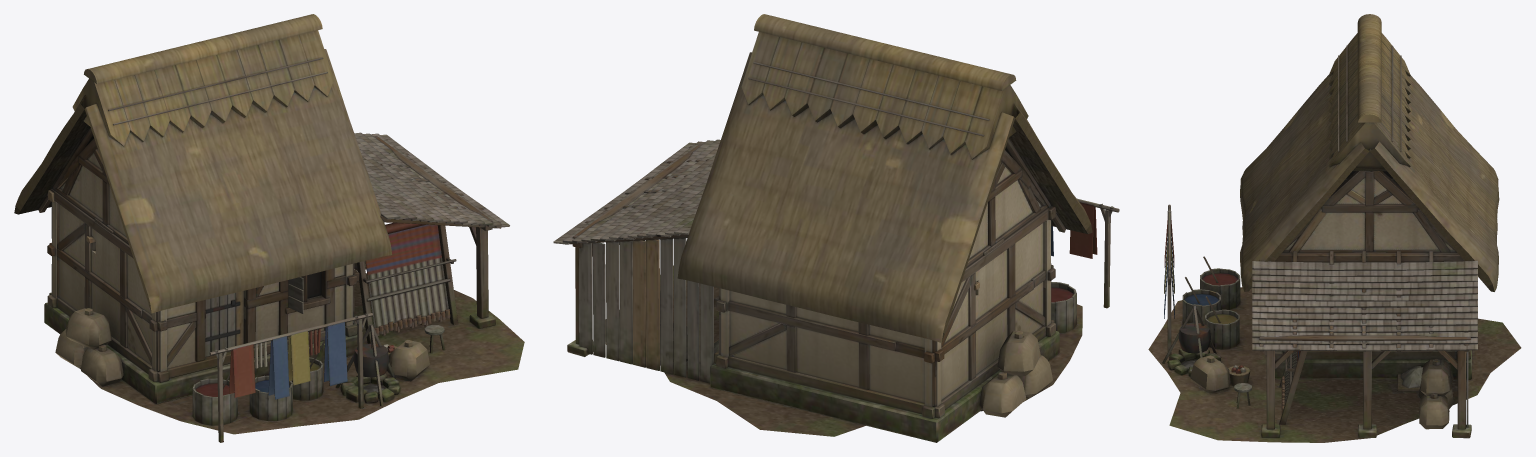
File: weaver.glb
The picture shows the model from 3 angles, left to right: view 1: azimuth 30°, elevation 25°; view 2: azimuth 150°, elevation 25°; view 3: azimuth 270°, elevation 25°; orthographic projection. The views are drawn at different scales.
Parts seen in each view (by area): view 1: weaver_LOD0; view 2: weaver_LOD0; view 3: weaver_LOD0.
Boxes of the visible parts, x1,y1,x2,y2 form: weaver_LOD0: (14, 14, 524, 442); weaver_LOD0: (553, 14, 1119, 442); weaver_LOD0: (1148, 14, 1521, 442).
Size of what is drawn, in the model's own units: 8.69 by 6.48 by 8.11.
Materials: 1 (1 with a texture image).
